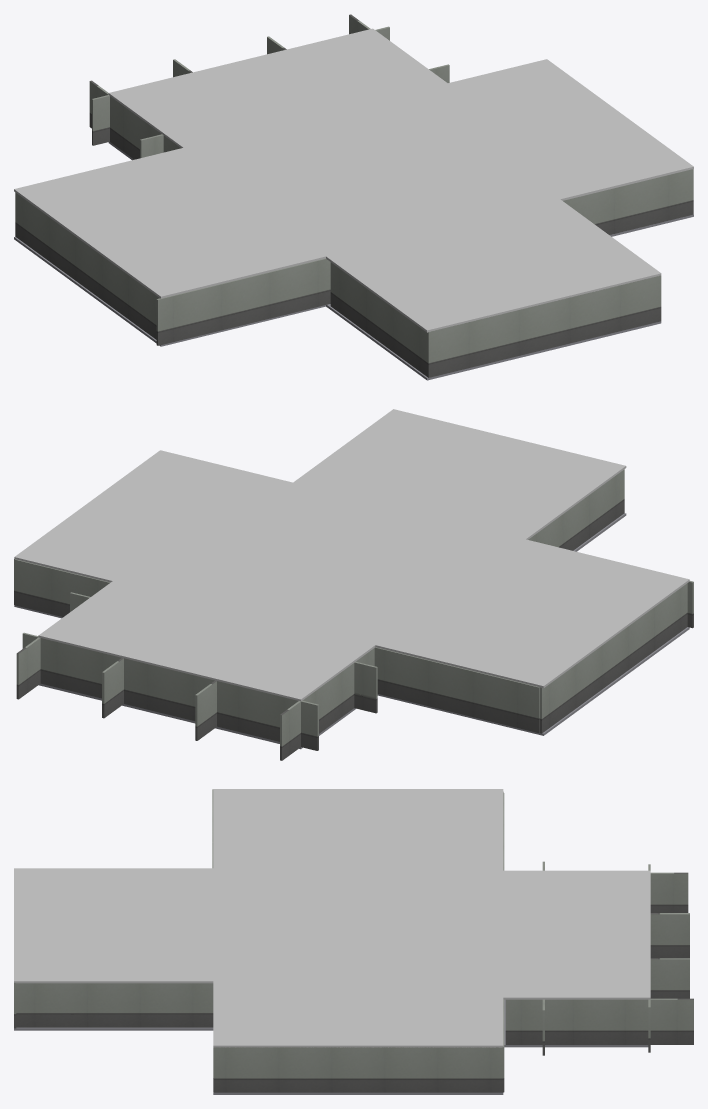
The model's file is Hospital Final.fbx.
The picture shows the model from 3 angles, top to bottom: view 1: azimuth 30°, elevation 25°; view 2: azimuth 150°, elevation 25°; view 3: azimuth 270°, elevation 25°; orthographic projection.
Parts seen in each view (by area): view 1: Techo_01, Muro_01, Muro_07, Muro_11, Muro_09, Muro_02, Piso_01, Muro_29, Muro_38; view 2: Techo_01, Muro_38, Muro_30, Muro_11, Muro_02, Muro_31, Muro_29, Piso_01, Muro_32, Muro_33, Muro_36, Muro_35; view 3: Techo_01, Muro_12, Muro_03, Muro_32, Piso_01, Muro_35, Muro_36, Muro_29.
Boxes of the visible parts, x1,y1,x2,y2 form: Techo_01: (14,28,693,332); Muro_01: (429,275,661,377); Muro_07: (156,258,330,345); Muro_11: (15,192,159,339); Muro_09: (563,169,692,234); Muro_02: (330,262,429,377); Piso_01: (14,142,693,380); Muro_29: (89,80,180,159); Muro_38: (92,26,389,145); Techo_01: (14,409,689,701); Muro_38: (22,632,318,750); Muro_30: (374,647,539,732); Muro_11: (539,583,687,733); Muro_02: (528,469,624,550); Muro_31: (14,559,110,616); Muro_29: (280,648,374,760); Piso_01: (14,513,689,749); Muro_32: (16,637,40,699); Muro_33: (354,661,377,713); Muro_36: (102,658,123,718); Muro_35: (195,680,216,740); Techo_01: (14,789,650,1047); Muro_12: (214,1047,503,1092); Muro_03: (16,983,213,1027); Muro_32: (505,998,693,1044); Piso_01: (14,1000,648,1094); Muro_35: (650,913,689,958); Muro_36: (650,958,689,998); Muro_29: (650,872,688,912).
Size of the model in its own units: 12651 by 1129 by 14078.
